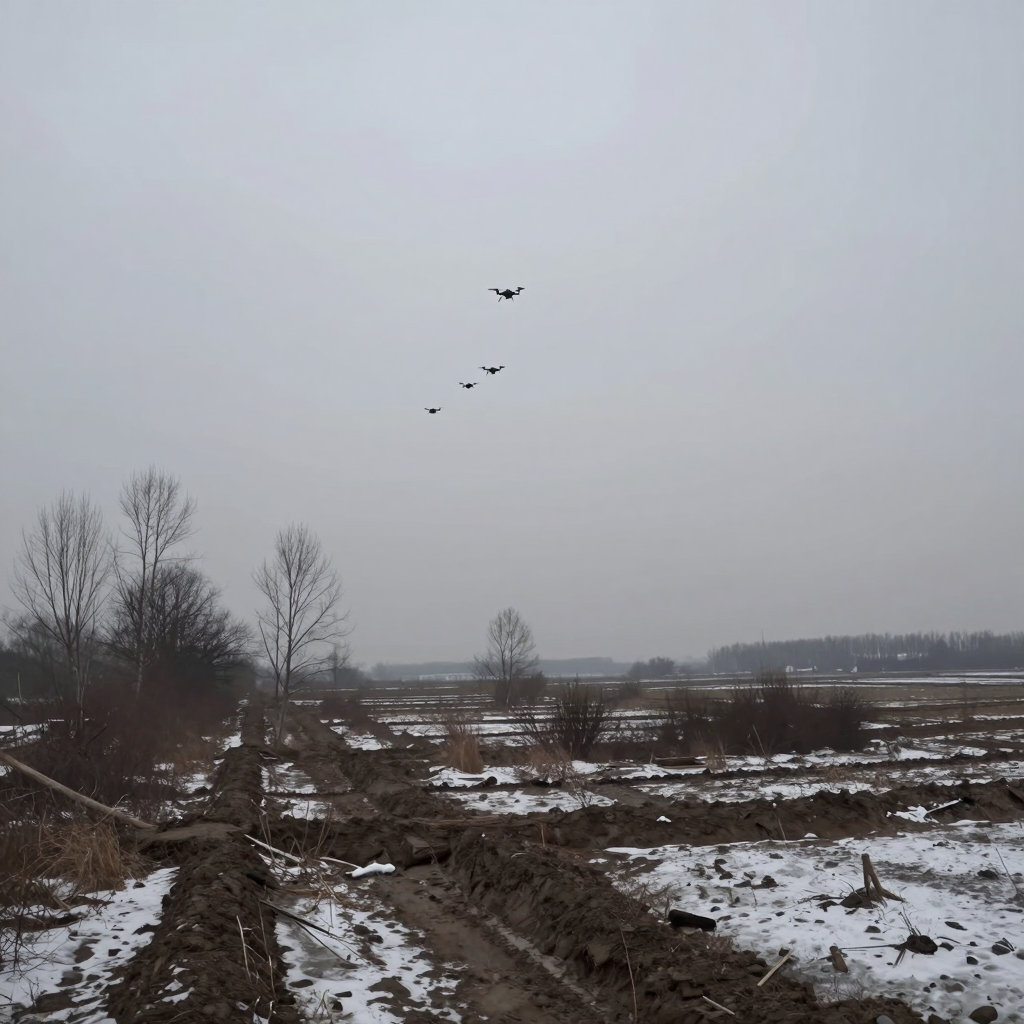drone: (488, 283, 530, 302), (478, 366, 505, 376), (459, 382, 479, 389), (424, 407, 442, 414)
